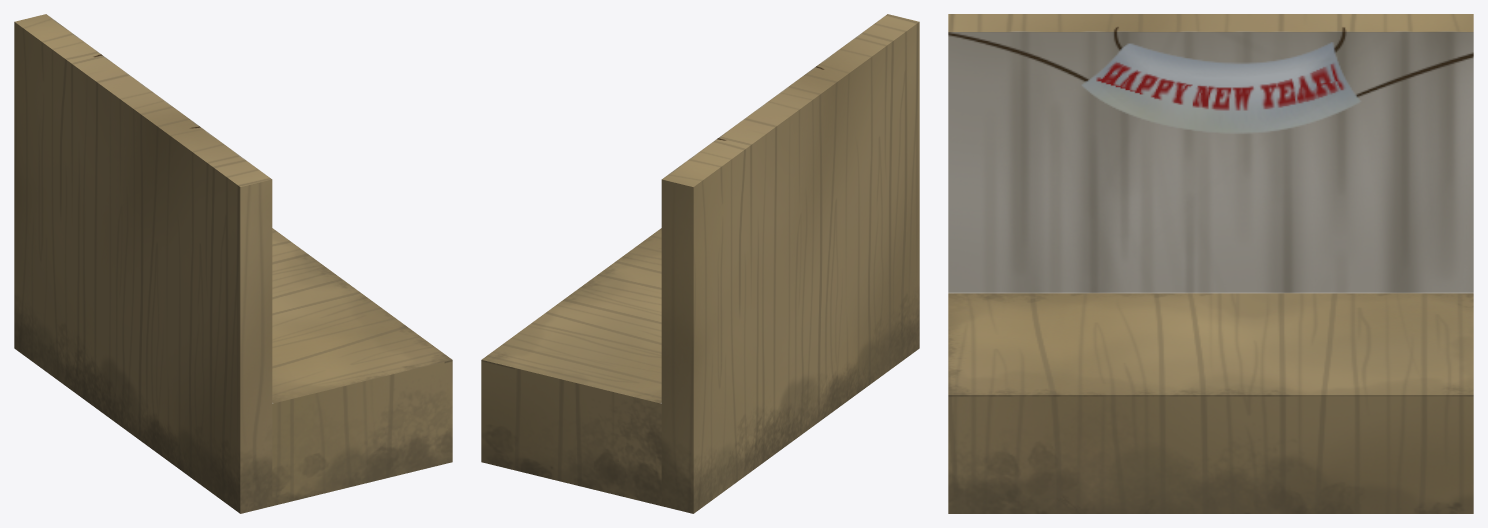
Rendered from Stage_Object.fbx.
The picture shows the model from 3 angles, left to right: view 1: azimuth 30°, elevation 25°; view 2: azimuth 150°, elevation 25°; view 3: azimuth 270°, elevation 25°; orthographic projection. The views are drawn at different scales.
Parts seen in each view (by area): view 1: Stage_Object; view 2: Stage_Object; view 3: Stage_Object.
Boxes of the visible parts, x1=… form: Stage_Object: x1=14, y1=14, x2=452, y2=513; Stage_Object: x1=481, y1=14, x2=919, y2=513; Stage_Object: x1=948, y1=14, x2=1473, y2=513.
Bounding box in the file's own units: 6.5 × 9.57 × 12.
1 material, 1 textured.
